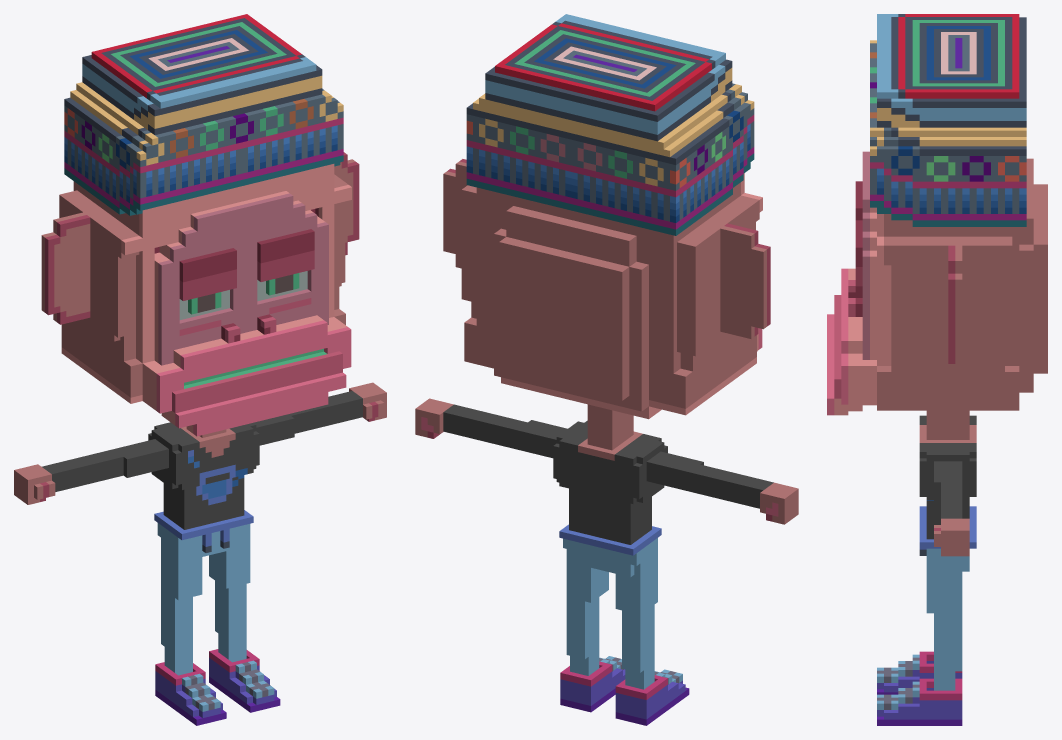
File: asset.glb
3 views of the same model, side by side, from view 1: azimuth 30°, elevation 25°; view 2: azimuth 150°, elevation 25°; view 3: azimuth 270°, elevation 25° (orthographic). The views are drawn at different scales.
Visible parts, largest first — view 1: Chimp Bohemia Cap; view 2: Chimp Bohemia Cap; view 3: Chimp Bohemia Cap.
Part boxes in pixels (left/top/right/bottom): Chimp Bohemia Cap: left=14, top=14, right=386, bottom=725; Chimp Bohemia Cap: left=415, top=14, right=798, bottom=725; Chimp Bohemia Cap: left=827, top=14, right=1047, bottom=725.
Bounding box in the file's own units: 6 × 10.1 × 3.1.
1 material, 1 textured.
